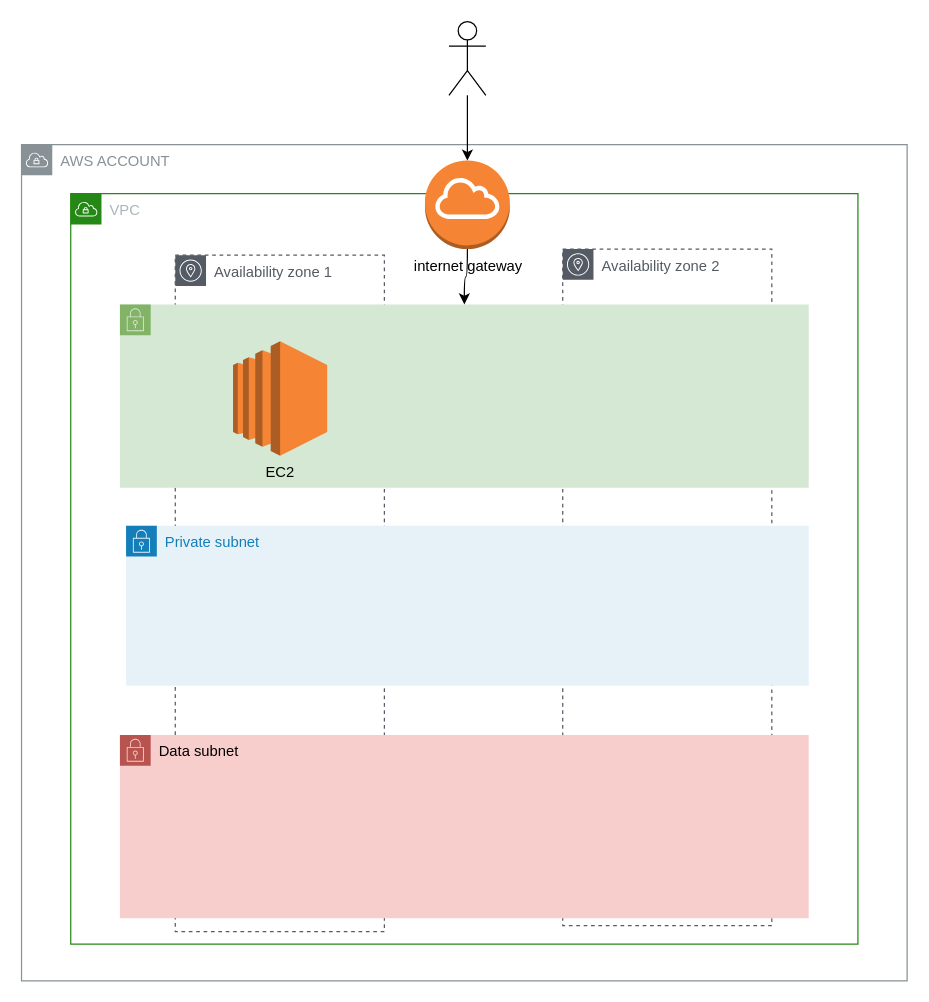
The diagram is 929 pixels wide and 1002 high, and some of its shapes have lost their labels. Each missing label, with the box of its shape:
Public subnet: (119, 303, 809, 488)
User: (448, 20, 486, 95)
